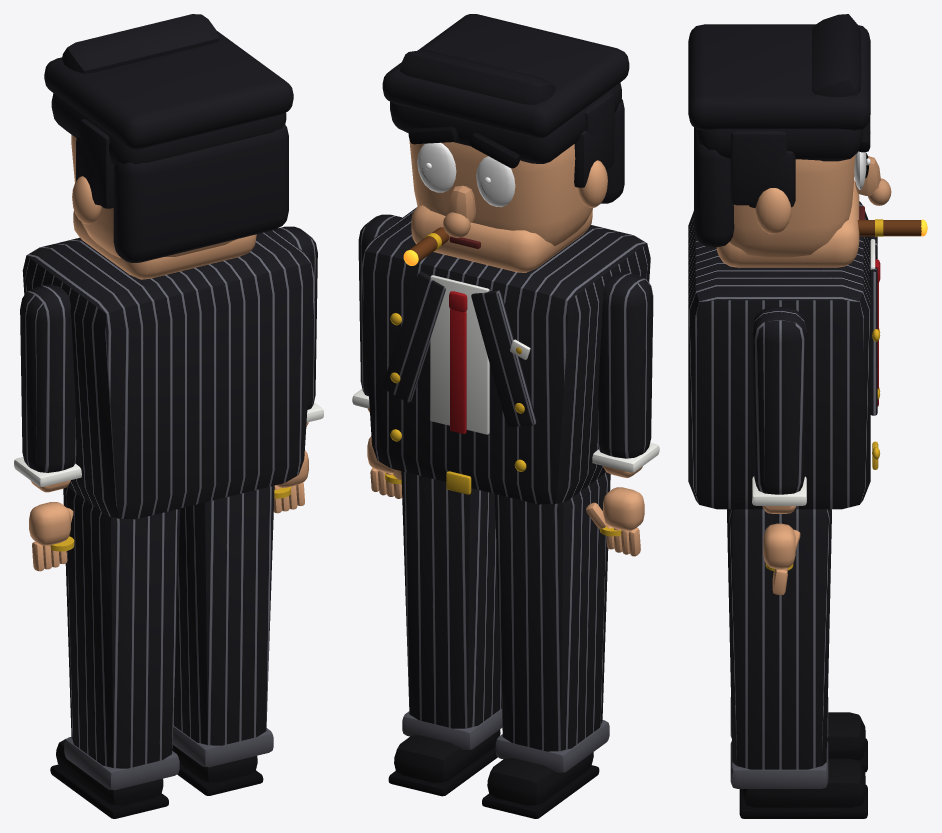
The model's file is sal.glb.
The picture shows the model from 3 angles, left to right: view 1: azimuth 30°, elevation 25°; view 2: azimuth 150°, elevation 25°; view 3: azimuth 270°, elevation 25°; orthographic projection.
Visible parts, largest first — view 1: torso, legL, legR, hairtop_head_hair_21, hair_head_hair_17, armL, head, hairtop_head_hair_17, armR; view 2: torso, legL, legR, head, hairtop_head_hair_21, armL, hairtop_head_hair_17, hair_head_hair_17, armR; view 3: torso, legR, hairtop_head_hair_21, head, armR, hair_head_hair_17, hairtop_head_hair_17, legL.
Part boxes in pixels (x1,y1,x2,y2): torso: (22, 230, 315, 519); legL: (50, 486, 180, 818); legR: (172, 485, 274, 795); hairtop_head_hair_21: (44, 14, 293, 149); hair_head_hair_17: (76, 119, 288, 262); armL: (14, 284, 81, 571); head: (71, 135, 256, 279); hairtop_head_hair_17: (51, 93, 286, 165); armR: (273, 226, 323, 513); torso: (361, 207, 650, 504); legL: (482, 472, 610, 818); legR: (388, 471, 502, 796); head: (403, 126, 607, 272); hairtop_head_hair_21: (382, 14, 629, 137); armL: (586, 272, 659, 556); hairtop_head_hair_17: (390, 82, 621, 163); hair_head_hair_17: (574, 93, 624, 203); armR: (352, 214, 402, 498); torso: (688, 201, 880, 509); legR: (727, 509, 867, 818); hairtop_head_hair_21: (688, 14, 870, 130); head: (716, 117, 927, 267); armR: (752, 307, 806, 595); hair_head_hair_17: (694, 127, 795, 247); hairtop_head_hair_17: (696, 128, 862, 161); legL: (730, 697, 867, 772).
Bounding box in the file's own units: 0.8147 × 2 × 0.588.
18 materials, 2 textured.
